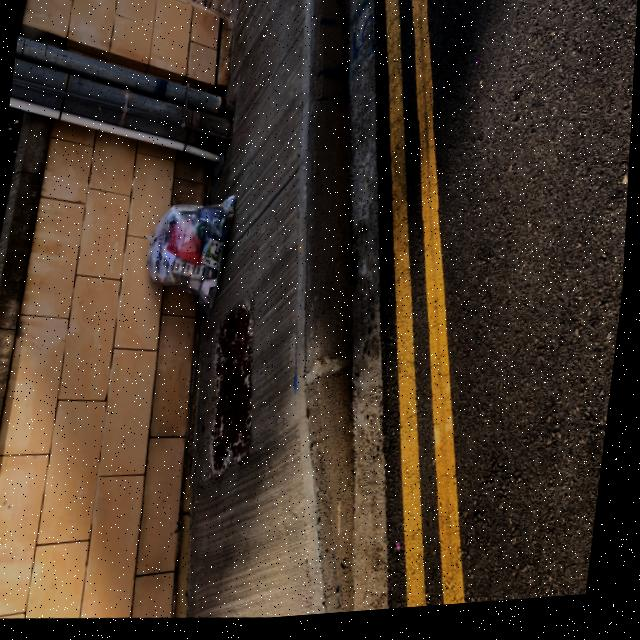Recycled Waste -Grey or Green Bag-: (139, 191, 241, 329)
